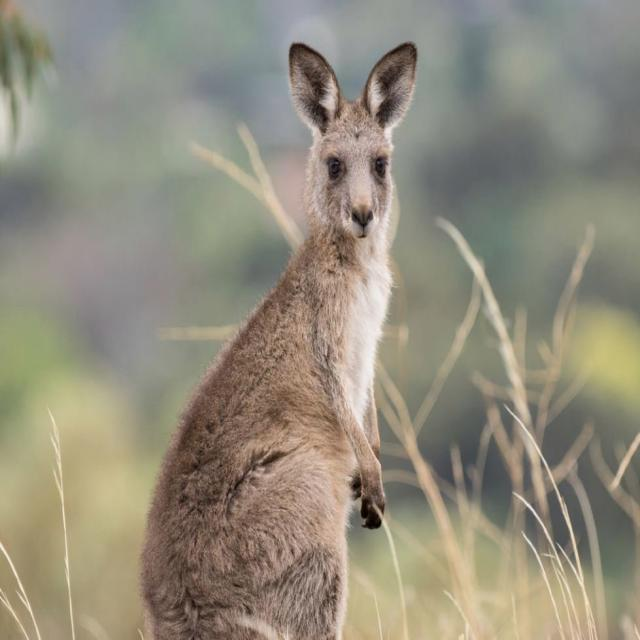kangaroo: (141, 43, 417, 639)
